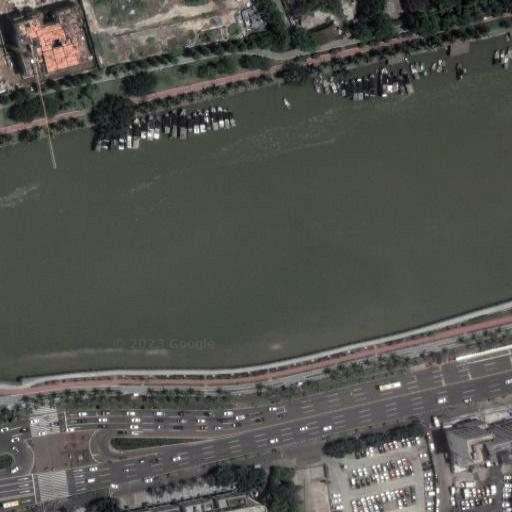building: (12, 5, 94, 79), (446, 411, 512, 454), (289, 465, 329, 512), (155, 496, 260, 512), (0, 45, 16, 91), (315, 25, 340, 47)
